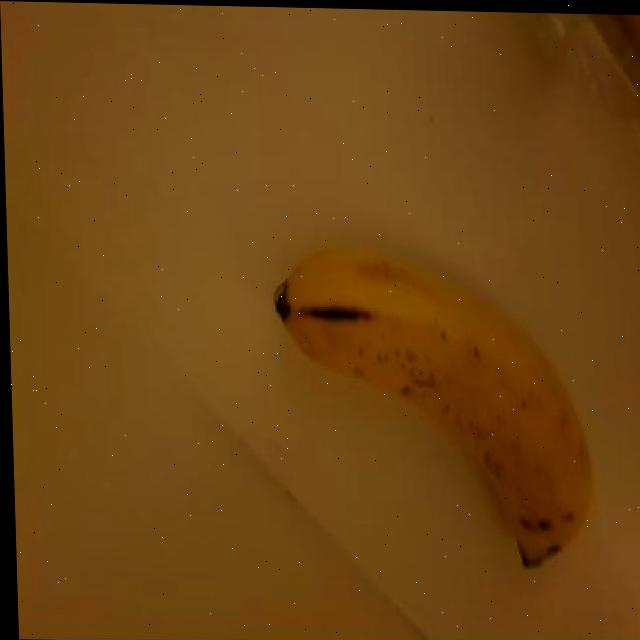banana: (266, 233, 602, 581)
